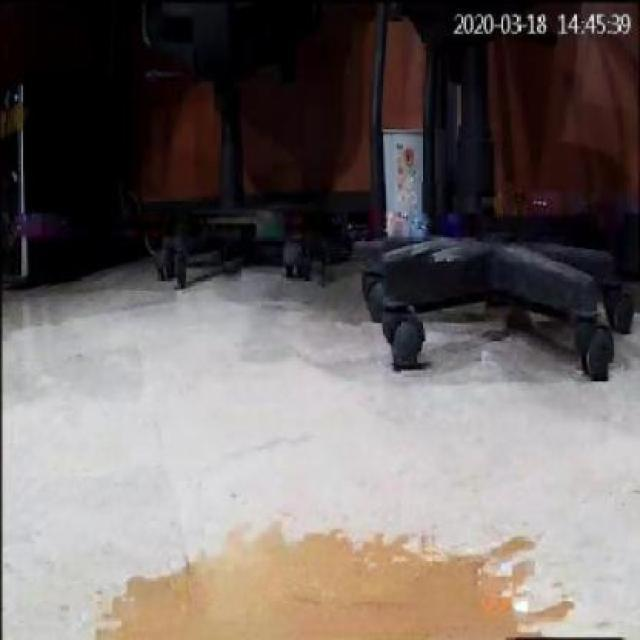spillage: (92, 534, 570, 640)
